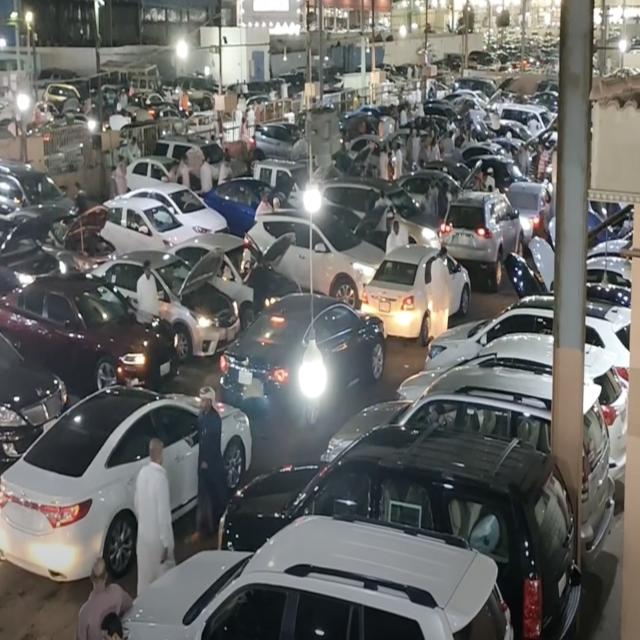license_plate: (16, 510, 34, 525), (378, 298, 392, 313), (238, 371, 252, 385), (227, 328, 236, 342), (457, 235, 469, 245)
